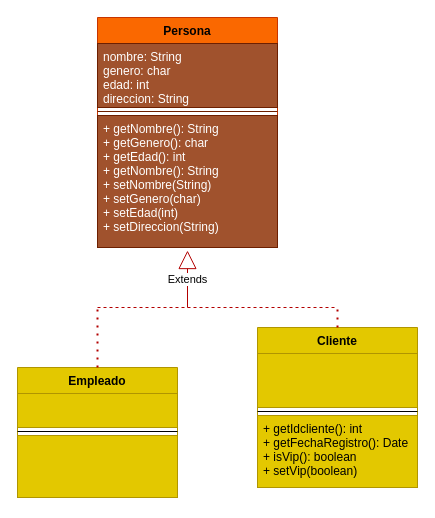
This 435x518 diagram has some shape labels left out. Here are the shapes that lost their labels. From the top down, the centre of each, then its label:
At point 337,380: "- idcliente: int - fechaRegistro: Date - vip: boolean".
At point 97,410: "- idEmpleado: int - sueldo: double".
At point 97,466: "+ getIdEmpleado(): int + getSueldo(): double + setSueldo(double)".
